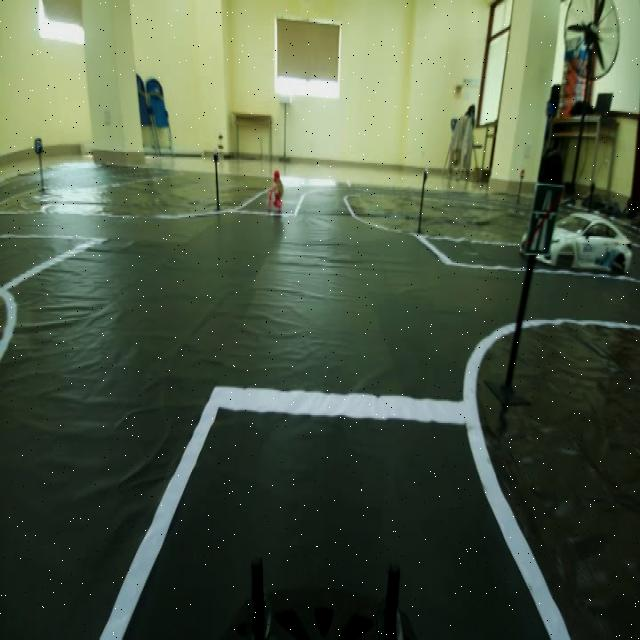highway_exit: (516, 171, 556, 250)
